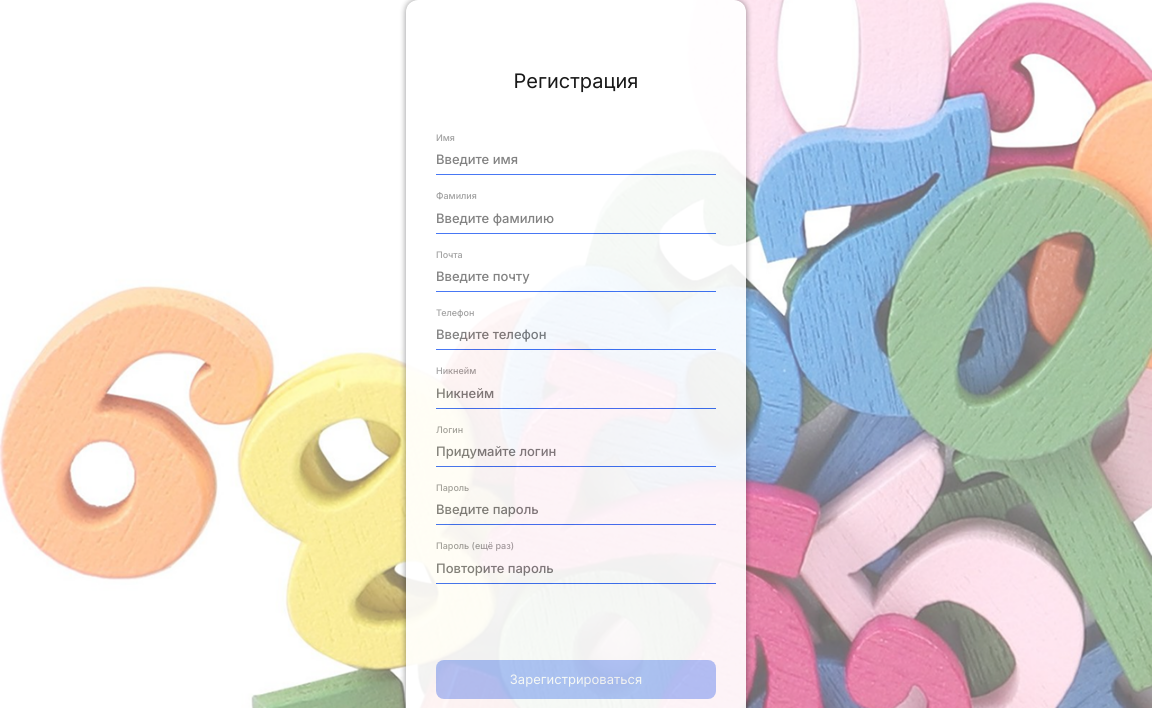
Scenario: SignUpPage › shows error validate for email
Type "wrong-email" into the field labelled "Почта" at (576, 276), box x1=436 y1=260 x2=716 y2=292
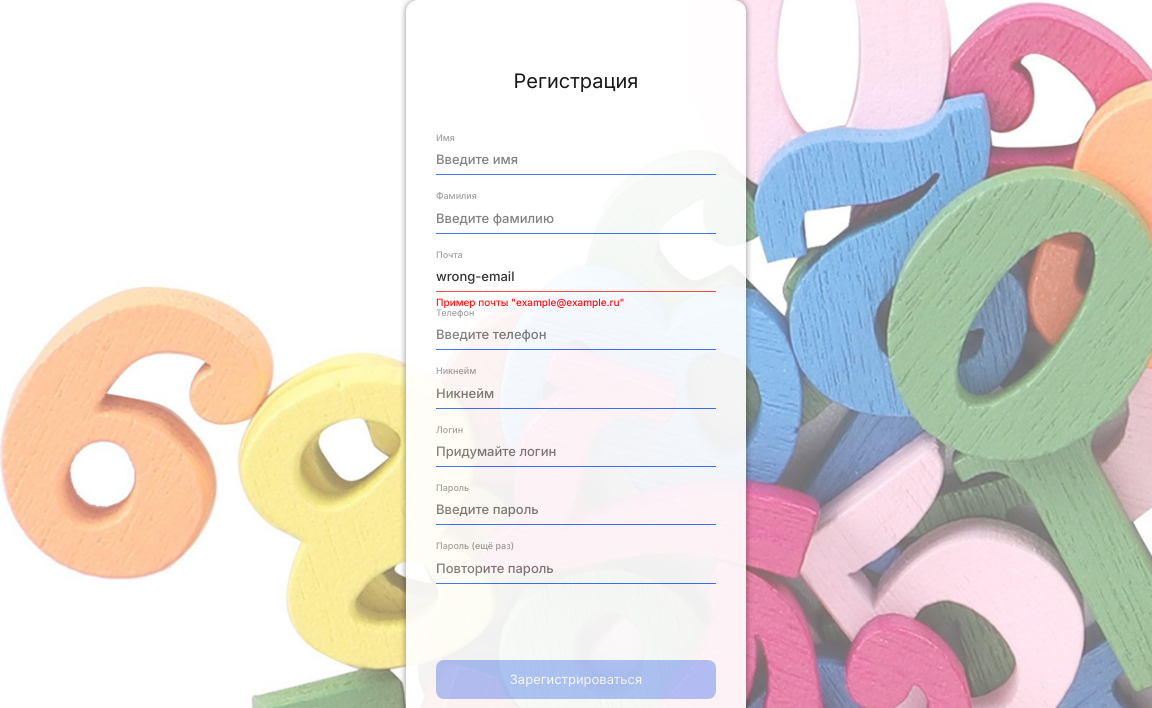
Now the text "Пример почты \"example@example.ru\"" is shown, box x1=436 y1=296 x2=624 y2=308
